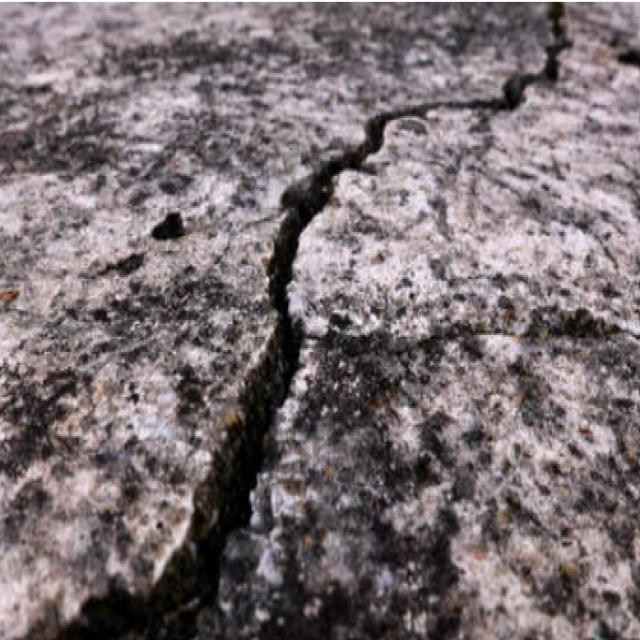diagonal crack: (80, 2, 567, 639)
